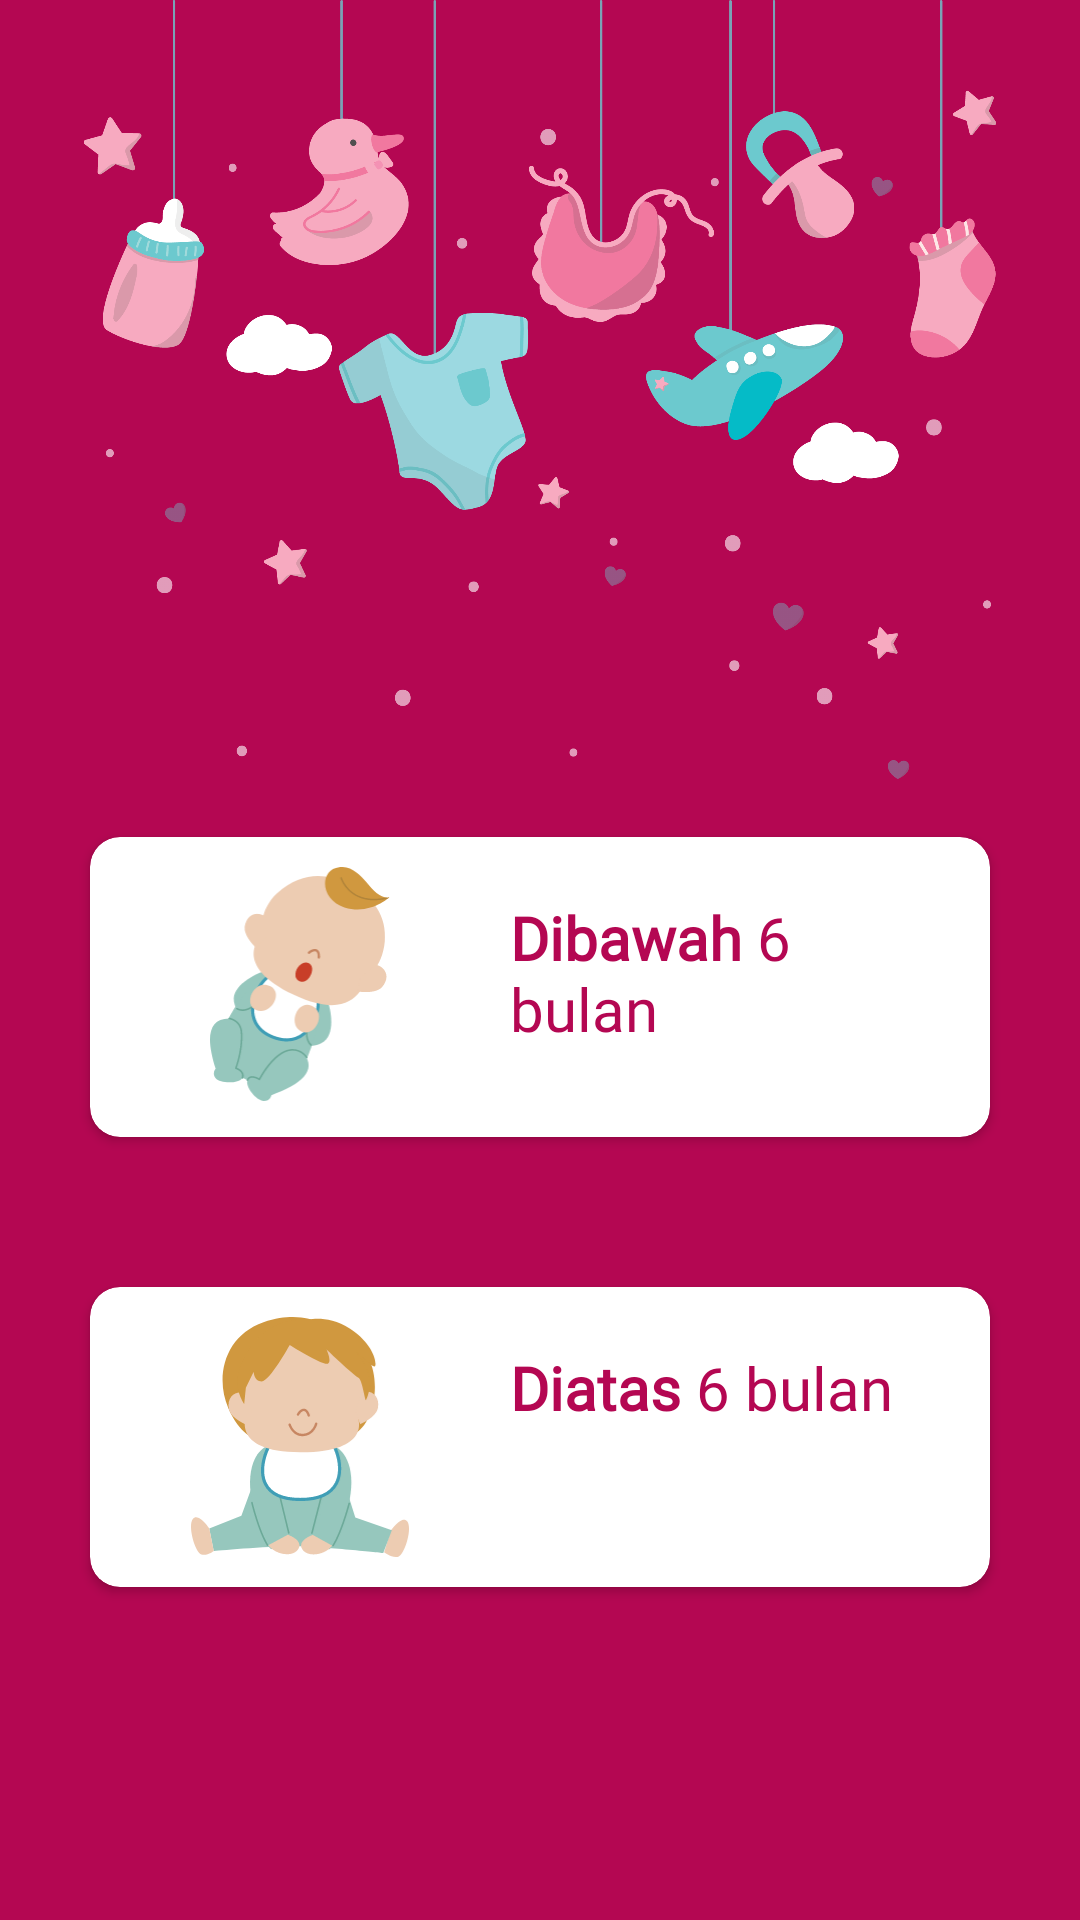

Where to tap for icons on this 1080px×1920px app screen, as (x=x, y=y):
fresh baby: (x=299, y=984)
fresh second baby: (x=300, y=1437)
